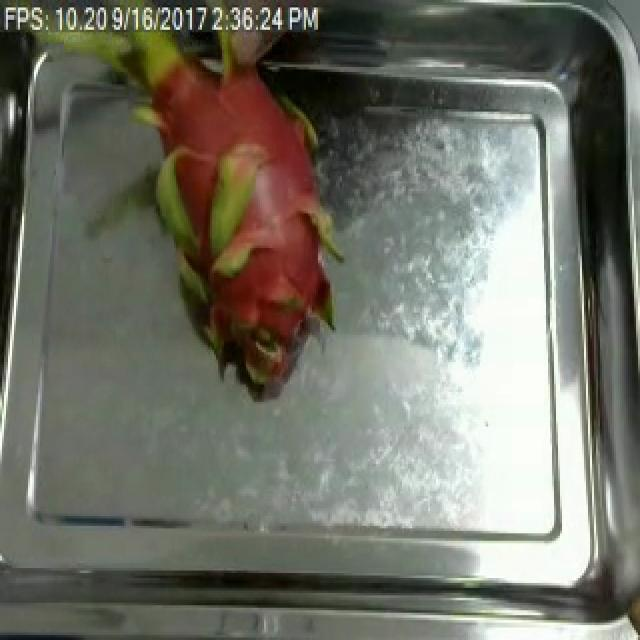fruit: (80, 2, 358, 404)
